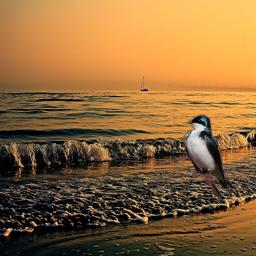Swallow: (183, 114, 234, 197)
